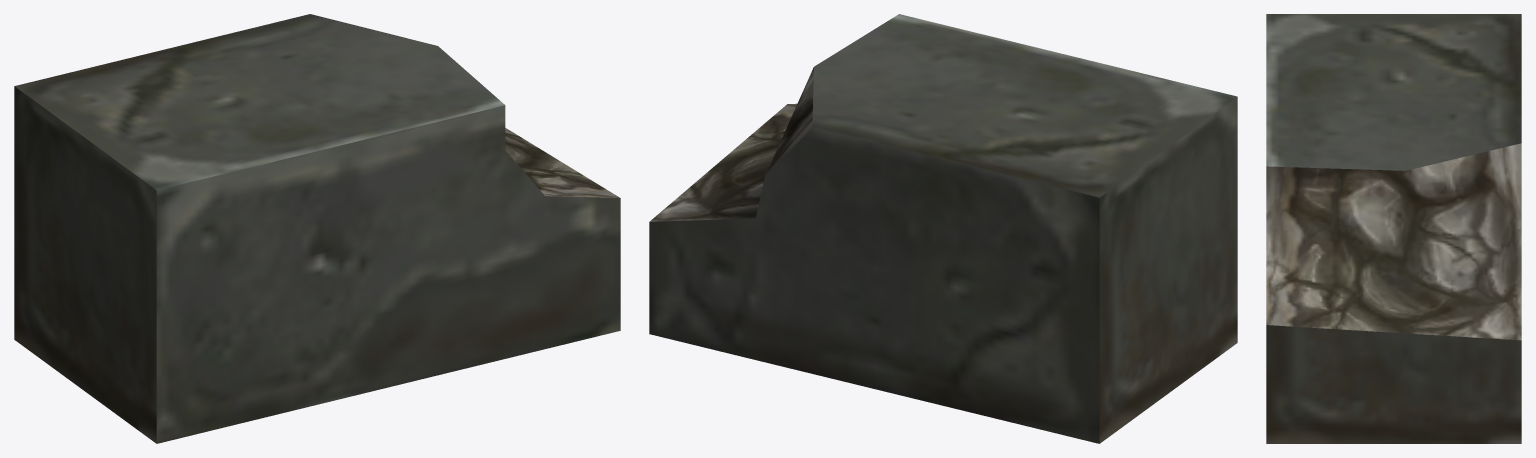
File: Z_zhuan004.fbx
3 renders of one model, left to right at view 1: azimuth 30°, elevation 25°; view 2: azimuth 150°, elevation 25°; view 3: azimuth 270°, elevation 25°, orthographic. The views are drawn at different scales.
Parts seen in each view (by area): view 1: Z_zhuan004; view 2: Z_zhuan004; view 3: Z_zhuan004.
Part boxes in pixels (left/top/right/bottom): Z_zhuan004: left=14, top=14, right=620, bottom=443; Z_zhuan004: left=649, top=14, right=1237, bottom=443; Z_zhuan004: left=1266, top=14, right=1521, bottom=443.
Size of the model in its own units: 106 by 55.34 by 56.29.
